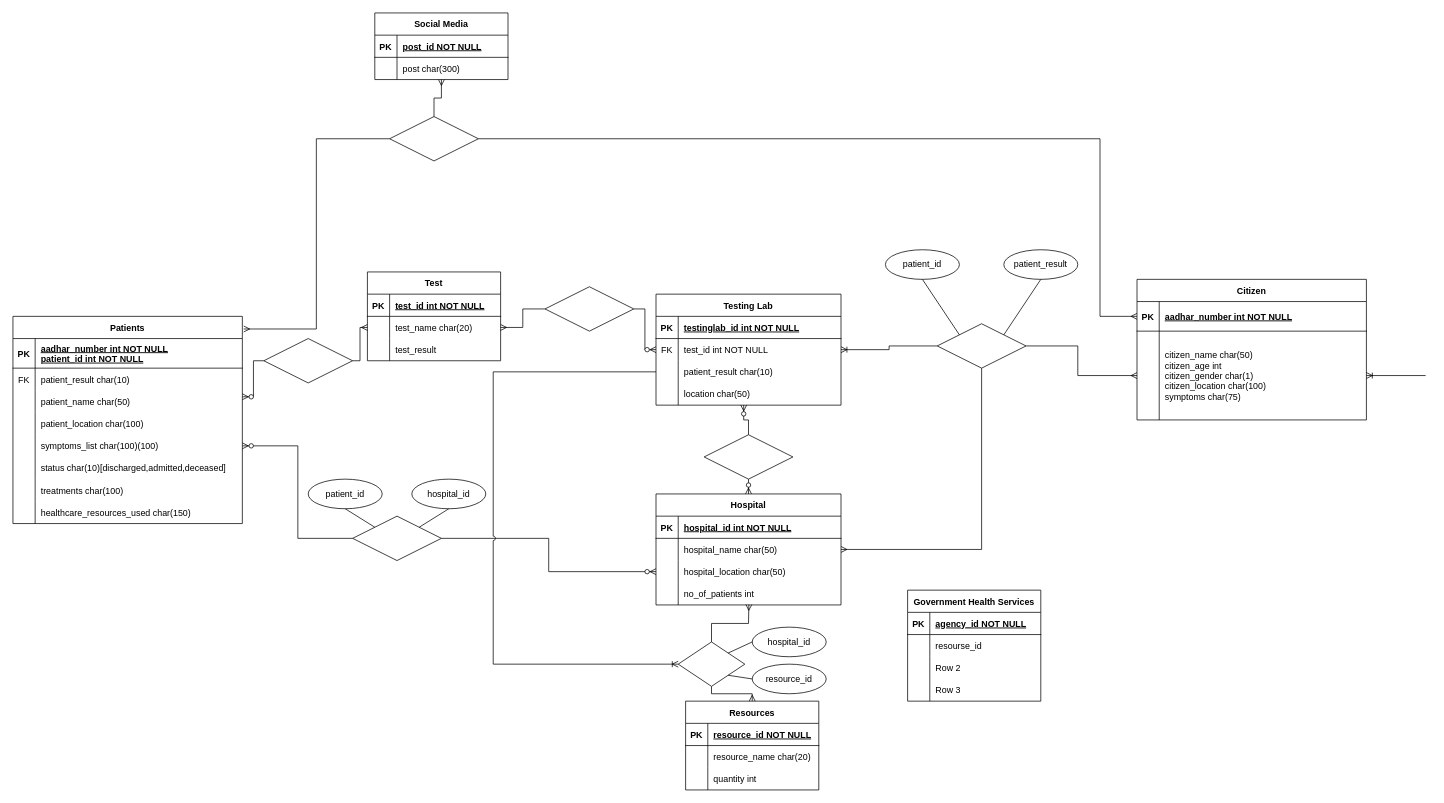
The diagram is 1444 pixels wide and 803 high, and some of its shapes have lost their labels. Each missing label, with the centre of its shape:
"Admit" goes at pixel 396 538.
"Checkup" goes at pixel 308 360.
"Confirmation" goes at pixel 748 456.
"Entries" goes at pixel 981 345.
"Media" goes at pixel 433 138.
"Requirements" goes at pixel 711 663.
"Test Location" goes at pixel 589 308.
